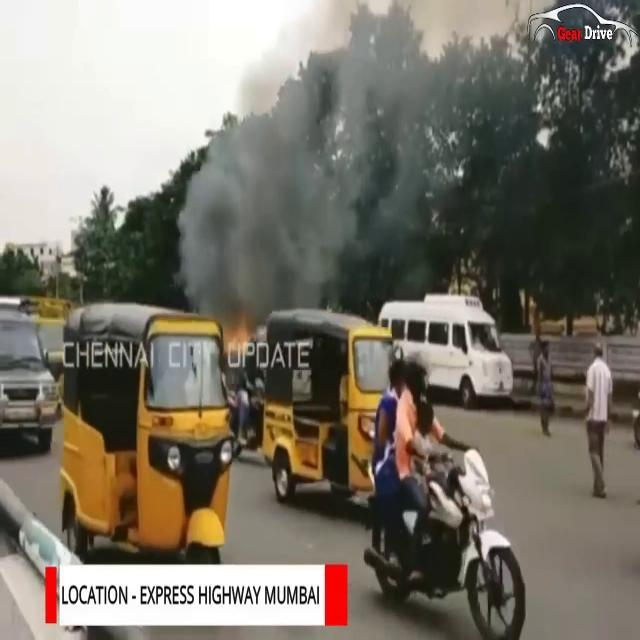Smoke: (173, 1, 463, 329)
